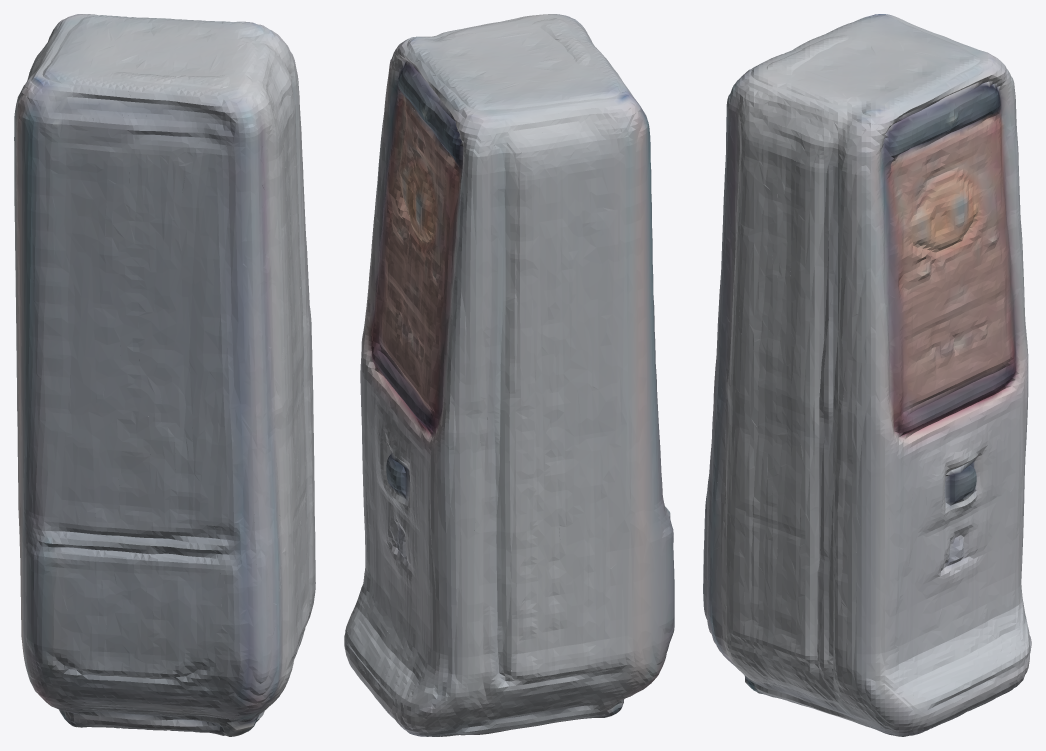
The model's file is room-01-experience-kiosk.glb.
The picture shows the model from 3 angles, left to right: view 1: azimuth 30°, elevation 25°; view 2: azimuth 150°, elevation 25°; view 3: azimuth 270°, elevation 25°; orthographic projection. The views are drawn at different scales.
Visible parts, largest first — view 1: world; view 2: world; view 3: world.
Boxes of the visible parts, <box> form: world: <box>14,14,315,736</box>; world: <box>344,14,674,736</box>; world: <box>703,14,1031,736</box>.
Size of the model in its own units: 0.4808 by 1 by 0.4795.
